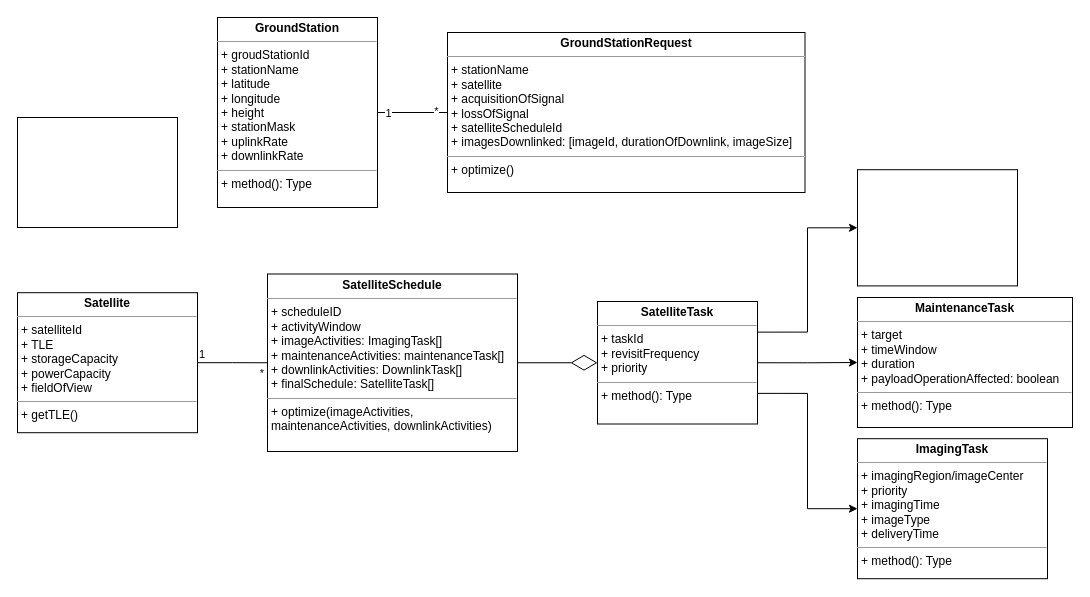
The diagram is 1090 pixels wide and 597 high, and some of its shapes have lost their labels. The shapes that lost their labels are listed below. From the top down, each one's centre as x and y in pixels, then its label:
the point at 97,172: Outage + target + startTime + endTime + method(): Type
the point at 937,227: DownlinkTask + imageId + downlinkStart + downlinkEnd + method(): Type
